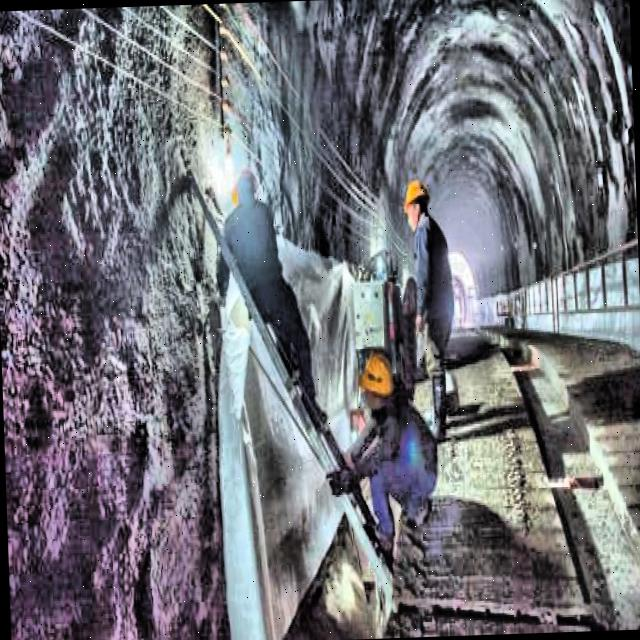helmet: (354, 345, 396, 419), (399, 173, 429, 238), (230, 162, 260, 212)
